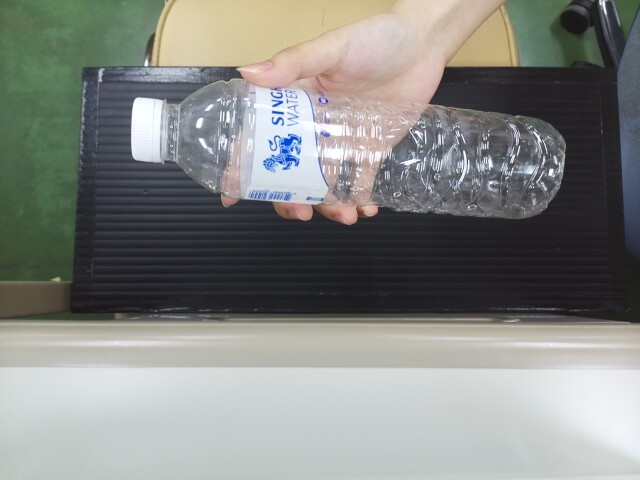plastic_bottle: (125, 83, 561, 216)
